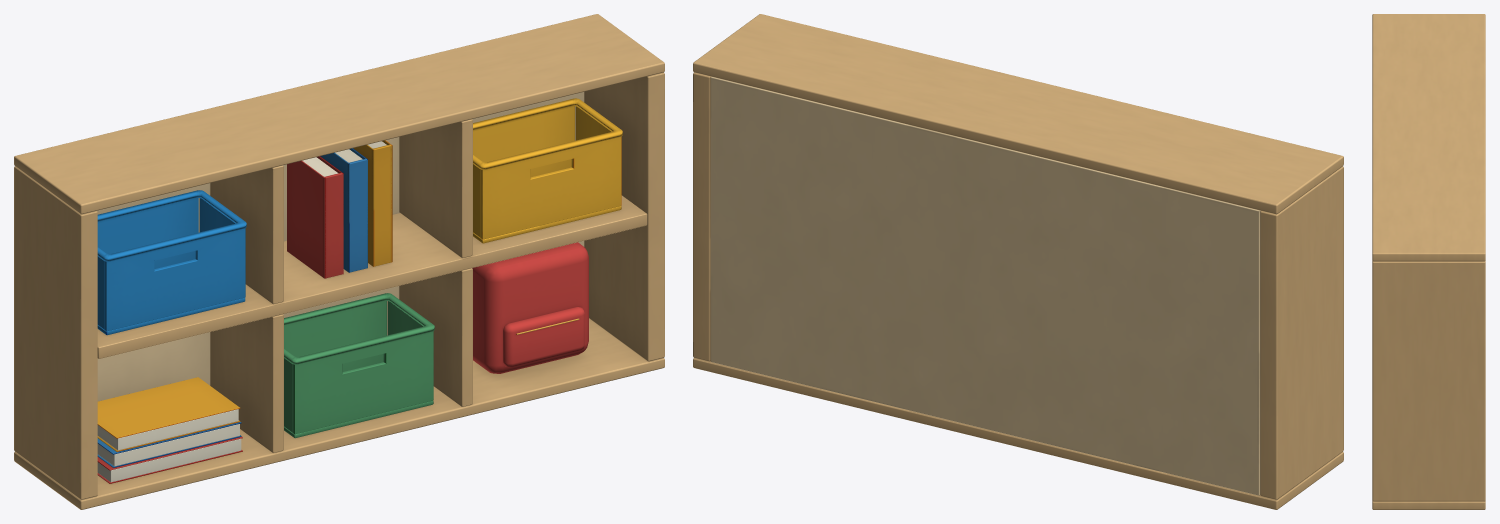
File: cubby-shelf.fbx
The picture shows the model from 3 angles, left to right: view 1: azimuth 30°, elevation 25°; view 2: azimuth 150°, elevation 25°; view 3: azimuth 270°, elevation 25°; orthographic projection. The views are drawn at different scales.
Visible parts, largest first — view 1: cubby-shelf; view 2: cubby-shelf; view 3: cubby-shelf.
Boxes of the visible parts, x1,y1,x2,y2 form: cubby-shelf: [14, 14, 664, 509]; cubby-shelf: [693, 14, 1343, 509]; cubby-shelf: [1372, 14, 1485, 509].
Bounding box in the file's own units: 60000 × 30000 × 12000.
1 material, 1 textured.
